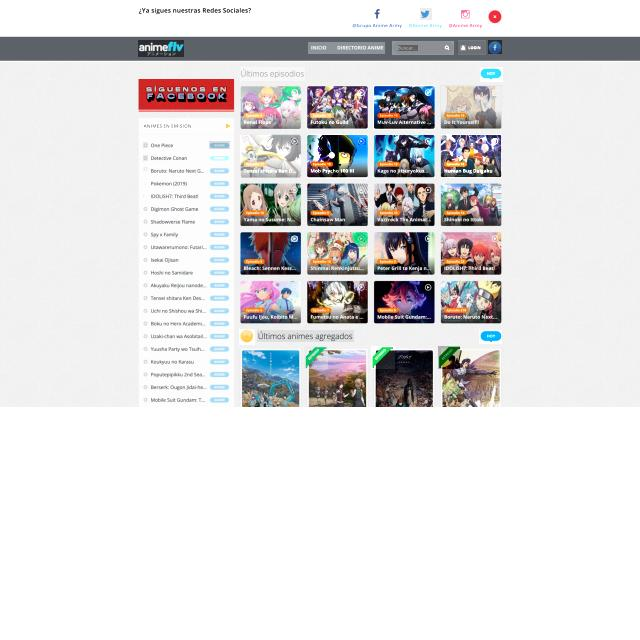CheckBox: (458, 40, 486, 55), (488, 40, 502, 54), (488, 10, 502, 24)
CheckedTextView: (392, 41, 454, 55)
ImageView: (138, 80, 234, 112)
Input field: (138, 18, 328, 31)
RadioButton: (304, 346, 328, 369), (371, 346, 395, 369), (438, 346, 461, 369), (480, 67, 503, 82), (479, 330, 502, 344), (209, 141, 230, 149), (210, 154, 230, 162), (243, 112, 265, 119), (310, 113, 334, 118)
bag: (0, 0, 640, 62)
breadcrumbs: (138, 6, 254, 17), (257, 330, 354, 342), (240, 67, 305, 81), (143, 122, 193, 129)
carousel: (419, 8, 432, 20), (460, 9, 472, 20), (372, 8, 382, 21), (424, 137, 432, 145), (224, 122, 231, 130), (291, 89, 299, 96), (357, 89, 365, 96), (425, 88, 432, 96), (358, 138, 366, 145), (491, 138, 499, 145), (291, 138, 298, 145), (358, 235, 365, 242), (492, 44, 498, 52), (291, 236, 298, 242), (460, 45, 466, 51), (492, 90, 498, 96), (143, 180, 148, 187), (445, 45, 450, 51), (493, 14, 498, 20), (143, 142, 148, 148), (143, 155, 148, 161), (143, 168, 148, 174), (144, 193, 148, 199)
content: (239, 329, 255, 345)
copy: (373, 85, 435, 130), (307, 134, 368, 179), (440, 85, 502, 129), (374, 134, 435, 178), (441, 134, 502, 178), (307, 86, 368, 129), (240, 86, 301, 128), (240, 135, 301, 177)
date picker: (138, 40, 184, 57)
decoration: (308, 42, 385, 54)
footer: (398, 45, 418, 51)
